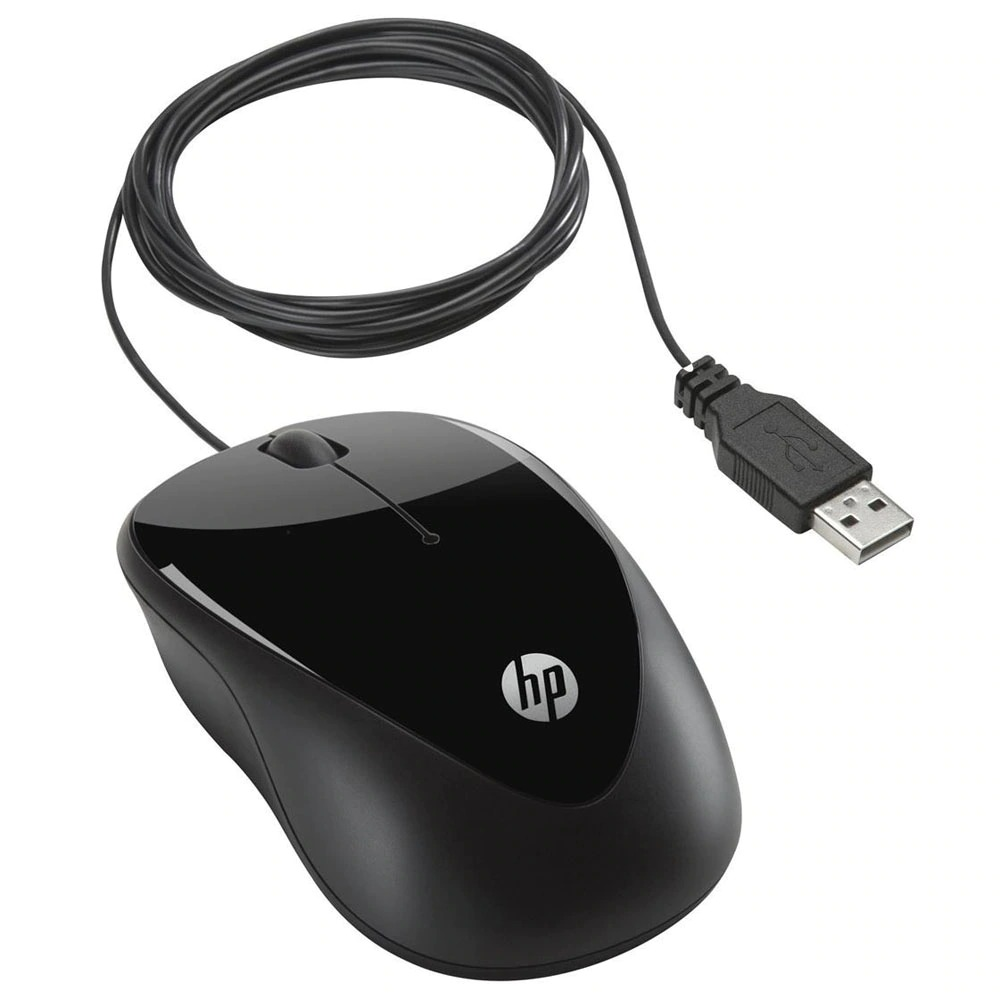mouse: (123, 392, 769, 979)
